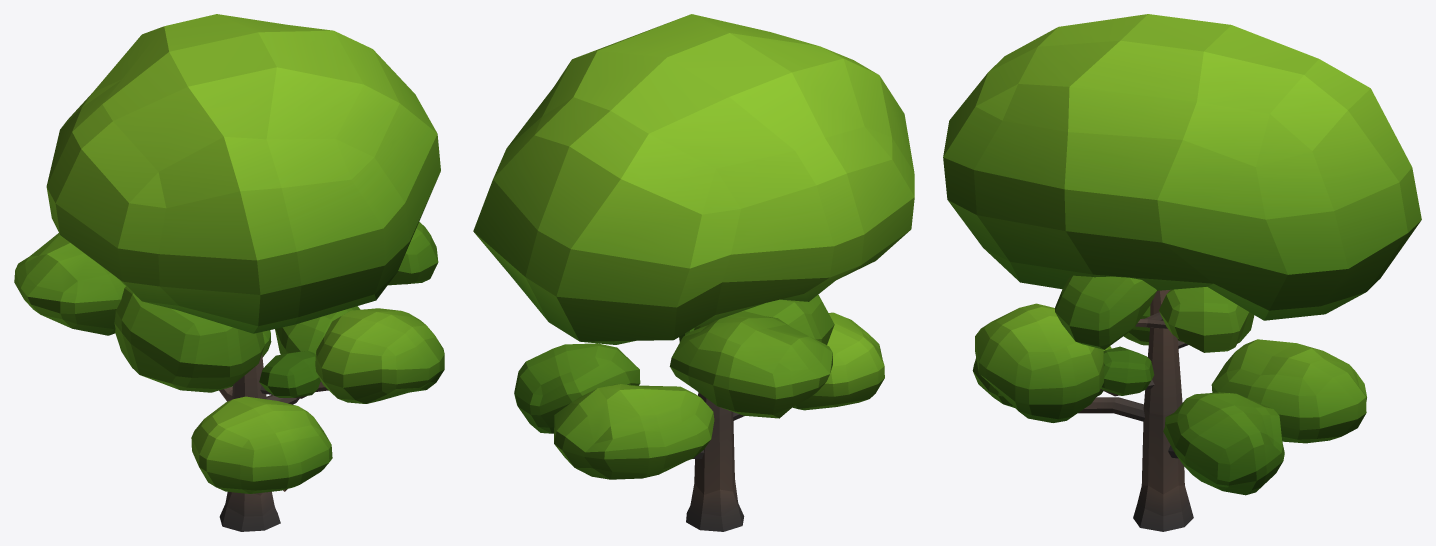
Rendered from OakTree.fbx.
The picture shows the model from 3 angles, left to right: view 1: azimuth 30°, elevation 25°; view 2: azimuth 150°, elevation 25°; view 3: azimuth 270°, elevation 25°; orthographic projection. The views are drawn at different scales.
Parts seen in each view (by area): view 1: OakTree; view 2: OakTree; view 3: OakTree.
Boxes of the visible parts, x1,y1,x2,y2 form: OakTree: (14,14,444,531); OakTree: (473,14,914,531); OakTree: (943,14,1421,531).
Bounding box in the file's own units: 591 × 773 × 698.
